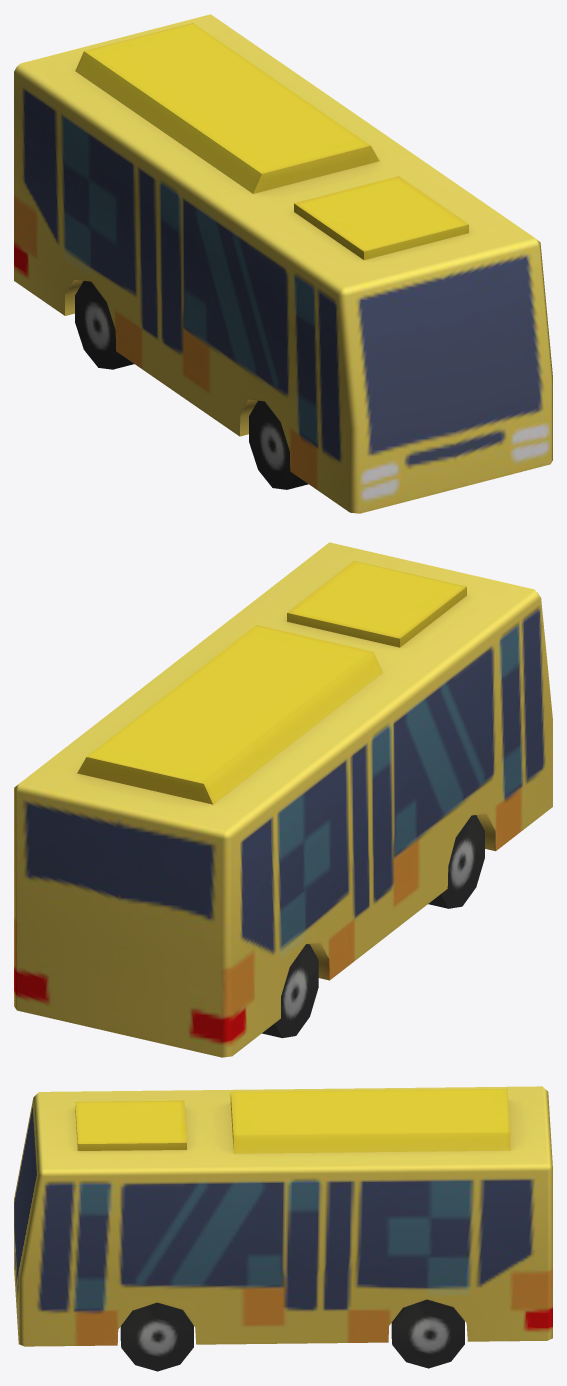
The model's file is Bus.fbx.
3 renders of one model, top to bottom at view 1: azimuth 30°, elevation 25°; view 2: azimuth 150°, elevation 25°; view 3: azimuth 270°, elevation 25°, orthographic. The views are drawn at different scales.
Visible parts, largest first — view 1: otobus; view 2: otobus; view 3: otobus.
Boxes of the visible parts, bbox=[...] form: otobus: bbox=[14, 14, 552, 513]; otobus: bbox=[14, 542, 552, 1057]; otobus: bbox=[14, 1086, 552, 1371].
Size of the model in its own units: 299 by 350 by 780.
